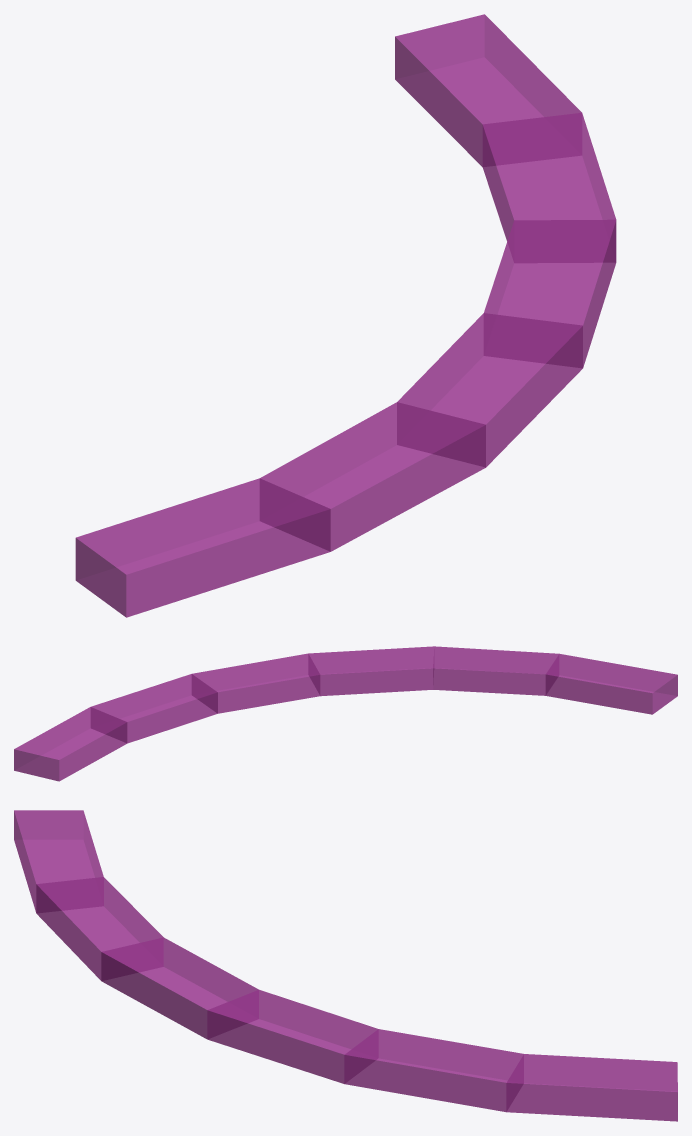
File: SM_Bld_Wall_Curved_Trim_01_Collision.fbx
The picture shows the model from 3 angles, top to bottom: view 1: azimuth 30°, elevation 25°; view 2: azimuth 150°, elevation 25°; view 3: azimuth 270°, elevation 25°; orthographic projection. The views are drawn at different scales.
Visible parts, largest first — view 1: SM_Bld_Wall_Curved_Trim_01_Collision; view 2: SM_Bld_Wall_Curved_Trim_01_Collision; view 3: SM_Bld_Wall_Curved_Trim_01_Collision.
Part boxes in pixels (<box>): SM_Bld_Wall_Curved_Trim_01_Collision: <box>75,14,616,617</box>; SM_Bld_Wall_Curved_Trim_01_Collision: <box>14,646,677,781</box>; SM_Bld_Wall_Curved_Trim_01_Collision: <box>14,810,677,1121</box>.
Size of the model in its own units: 531 by 25.84 by 529.
